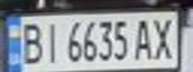3: (96, 17, 115, 62)
5: (112, 17, 133, 61)
6: (78, 17, 100, 63), (63, 17, 84, 63)
A: (133, 16, 157, 61)
B: (18, 19, 45, 65)
I: (39, 18, 63, 65)
X: (148, 14, 178, 61)
